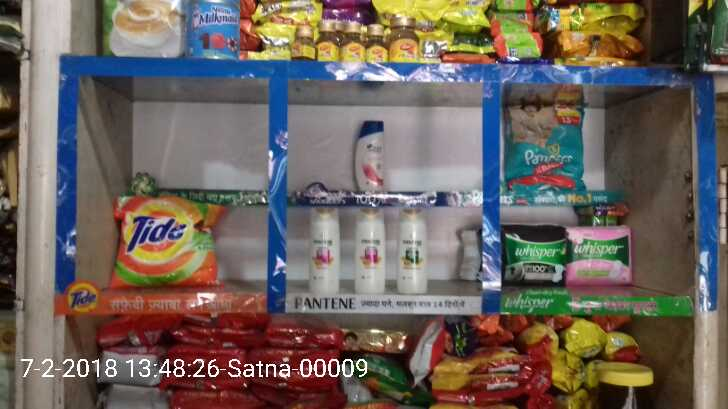beauty: (350, 115, 387, 191), (356, 206, 385, 295), (398, 205, 427, 294), (309, 207, 337, 295)
home: (105, 192, 219, 289)
pharmacy: (505, 103, 585, 193), (498, 226, 564, 282), (568, 223, 629, 282)
